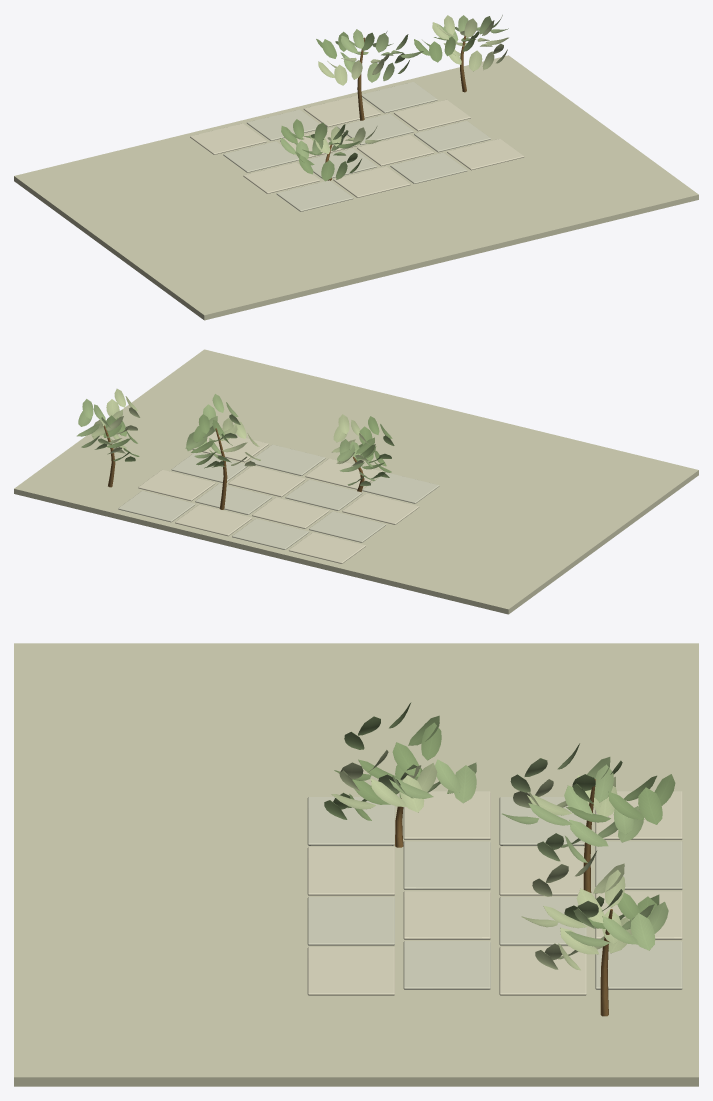
The model's file is entry-garden-v11.glb.
3 renders of one model, top to bottom at view 1: azimuth 30°, elevation 25°; view 2: azimuth 150°, elevation 25°; view 3: azimuth 270°, elevation 25°, orthographic. The views are drawn at different scales.
Visible parts, largest first — view 1: entry-garden-v11; view 2: entry-garden-v11; view 3: entry-garden-v11.
Part boxes in pixels (x1=…): entry-garden-v11: x1=14, y1=15, x2=698, y2=320; entry-garden-v11: x1=14, y1=349, x2=698, y2=614; entry-garden-v11: x1=14, y1=643, x2=698, y2=1086.
Bounding box in the file's own units: 6 × 1.17 × 4.
7 materials, 4 textured.
